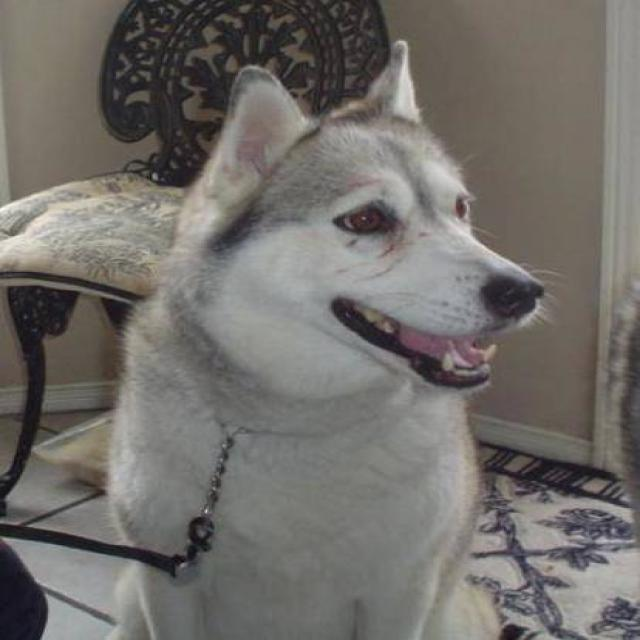Dog: (190, 39, 554, 403)
